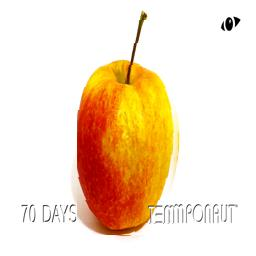Apple Semifresh: (77, 8, 184, 235)
